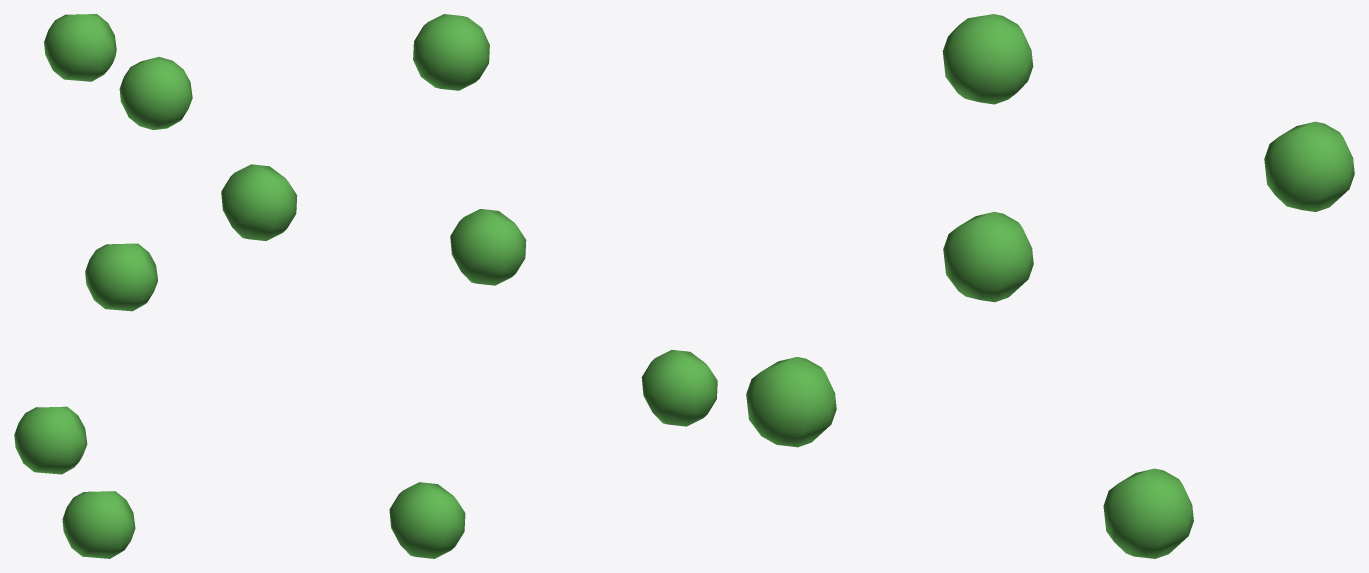
The model's file is linfatico-mastoid-nodes-l.glb.
3 views of the same model, side by side, from view 1: azimuth 30°, elevation 25°; view 2: azimuth 150°, elevation 25°; view 3: azimuth 270°, elevation 25° (orthographic). The views are drawn at different scales.
Visible parts, largest first — view 1: Mastoid nodes.l; view 2: Mastoid nodes.l; view 3: Mastoid nodes.l.
Boxes of the visible parts, left/top/right/bottom form: Mastoid nodes.l: left=14, top=14, right=192, bottom=558; Mastoid nodes.l: left=221, top=14, right=717, bottom=558; Mastoid nodes.l: left=746, top=14, right=1354, bottom=558.
Size of the model in its own units: 0.0102 by 0.0175 by 0.0172.
